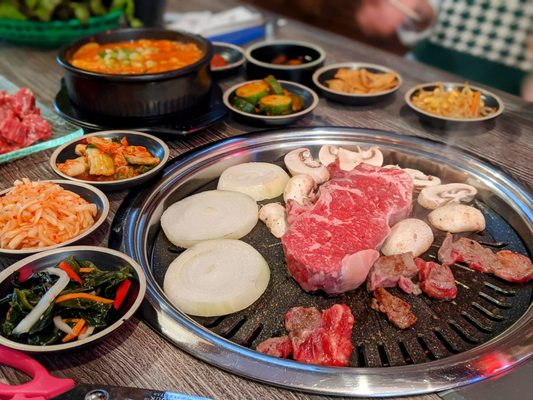sushi: (123, 131, 533, 400), (0, 246, 146, 353), (55, 27, 214, 121), (0, 179, 111, 261), (0, 0, 146, 48), (52, 131, 169, 190), (406, 82, 505, 133), (222, 77, 318, 128), (312, 63, 401, 105), (246, 40, 327, 83)
